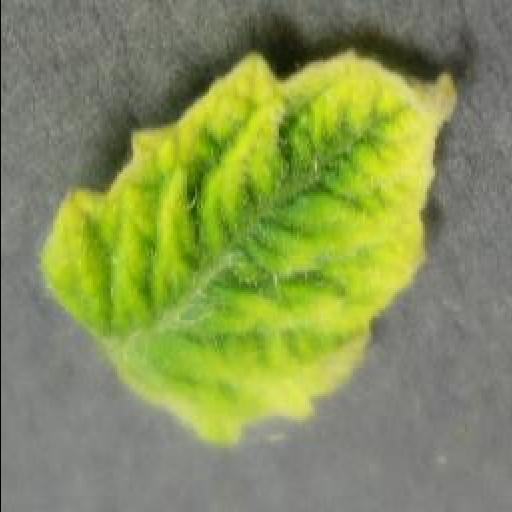disease_tomato: (42, 48, 456, 446)
